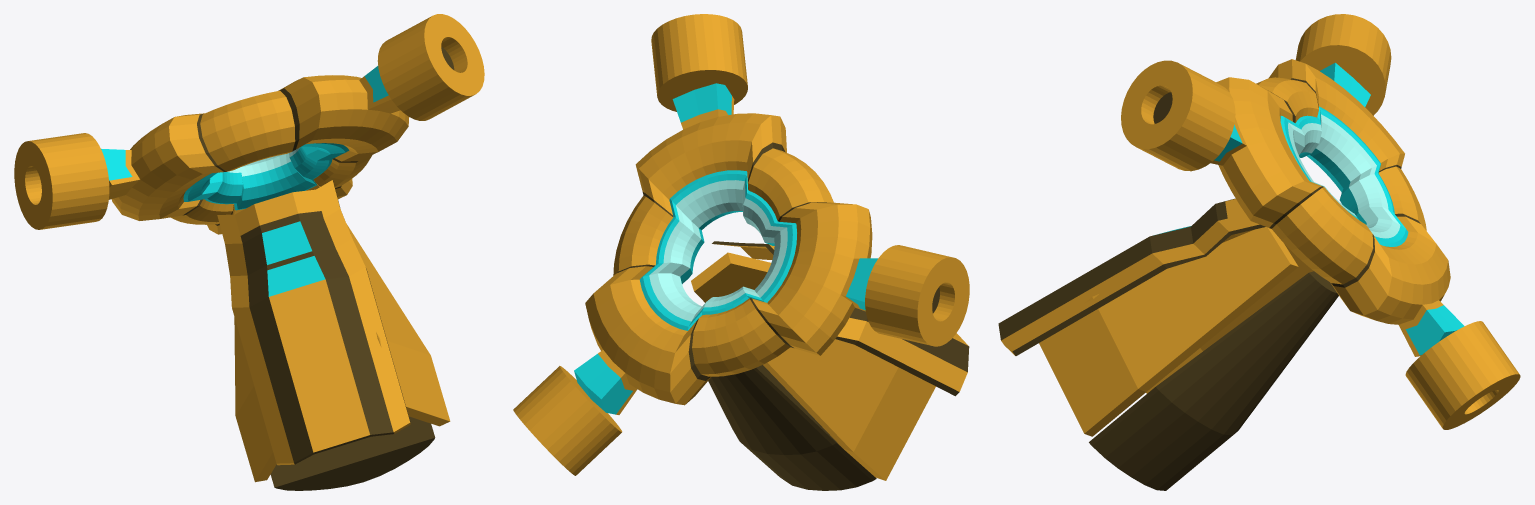
File: horizonFocus.fbx
3 renders of one model, left to right at view 1: azimuth 30°, elevation 25°; view 2: azimuth 150°, elevation 25°; view 3: azimuth 270°, elevation 25°, orthographic. The views are drawn at different scales.
Visible parts, largest first — view 1: Torus.003; view 2: Torus.003; view 3: Torus.003.
Boxes of the visible parts, x1,y1,x2,y2 form: Torus.003: (14,14,484,490); Torus.003: (513,14,969,490); Torus.003: (998,14,1520,490).
Bounding box in the file's own units: 178 × 204 × 207.
